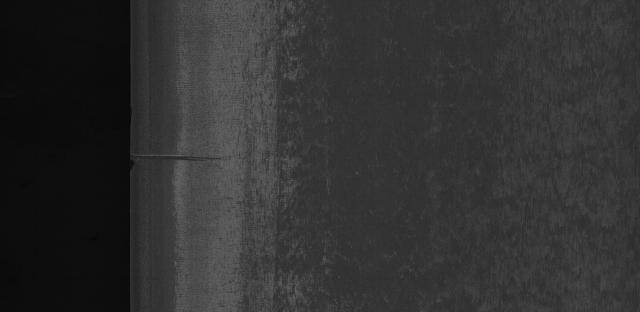silk_spot: (275, 9, 625, 306)
